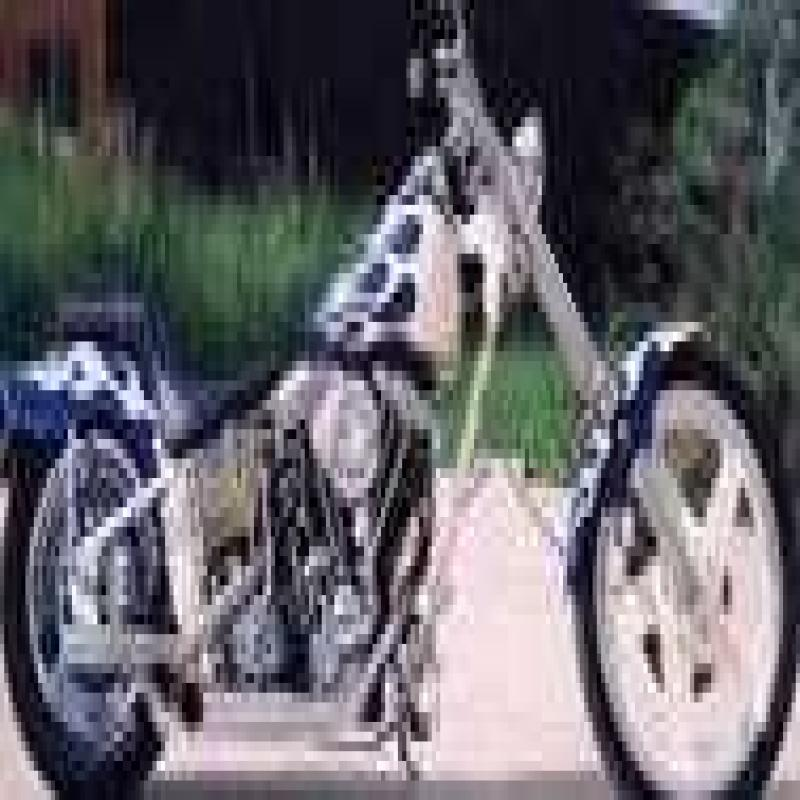bike: (5, 0, 800, 797)
